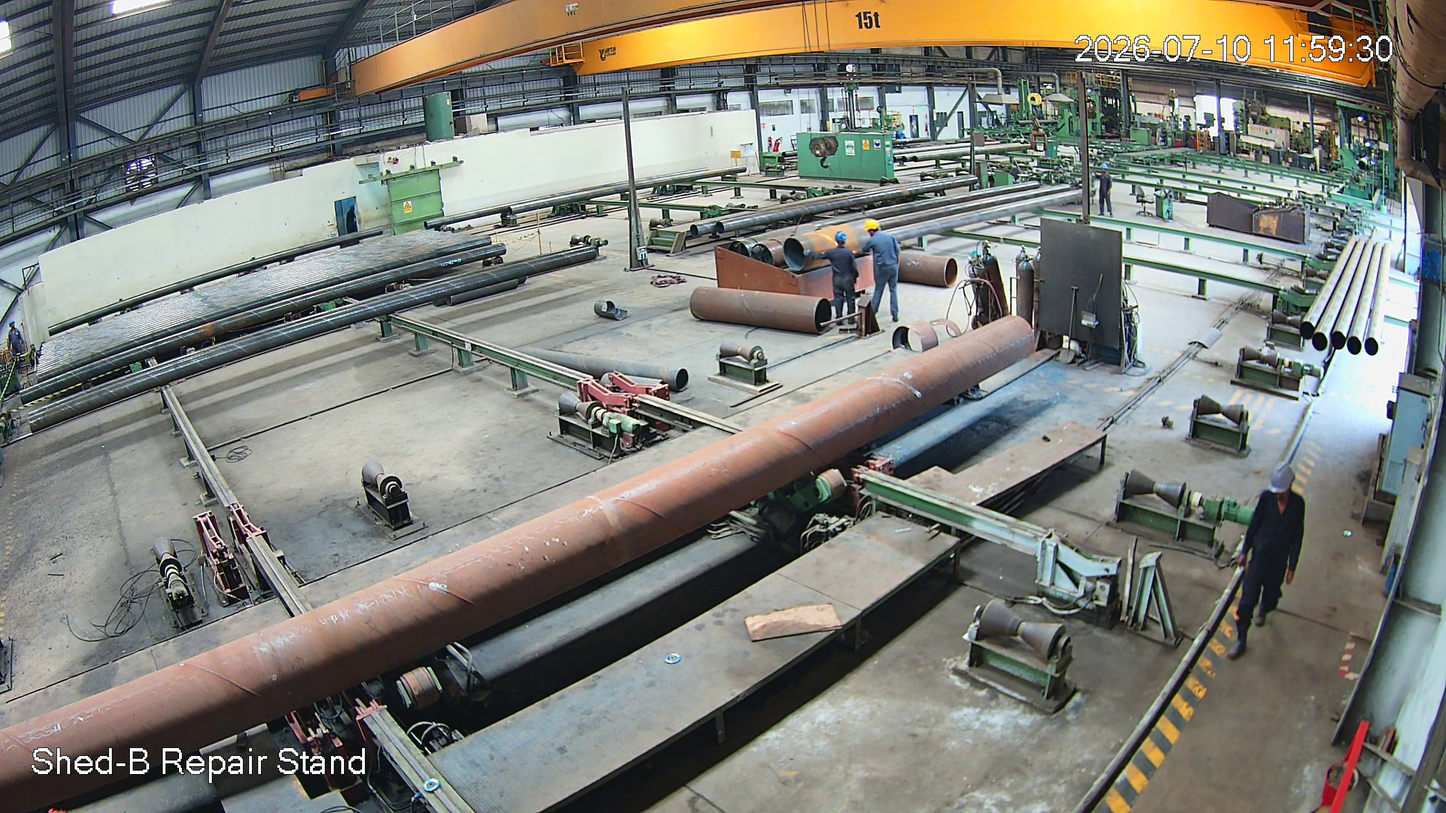Helmet: (1265, 458, 1308, 510), (860, 217, 883, 243), (832, 230, 847, 256), (1100, 162, 1111, 174)
Person: (1225, 462, 1311, 665), (858, 220, 907, 329), (823, 231, 857, 335), (1096, 164, 1115, 219)
